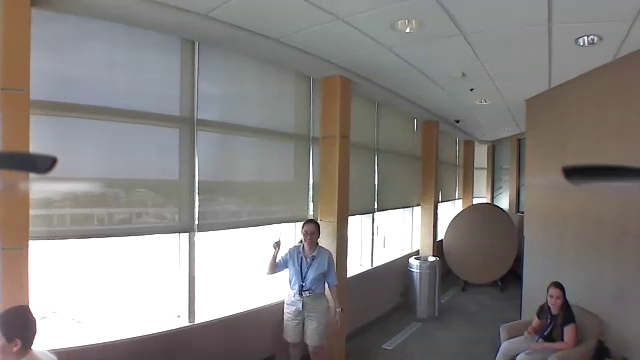up: (270, 229, 284, 253)
